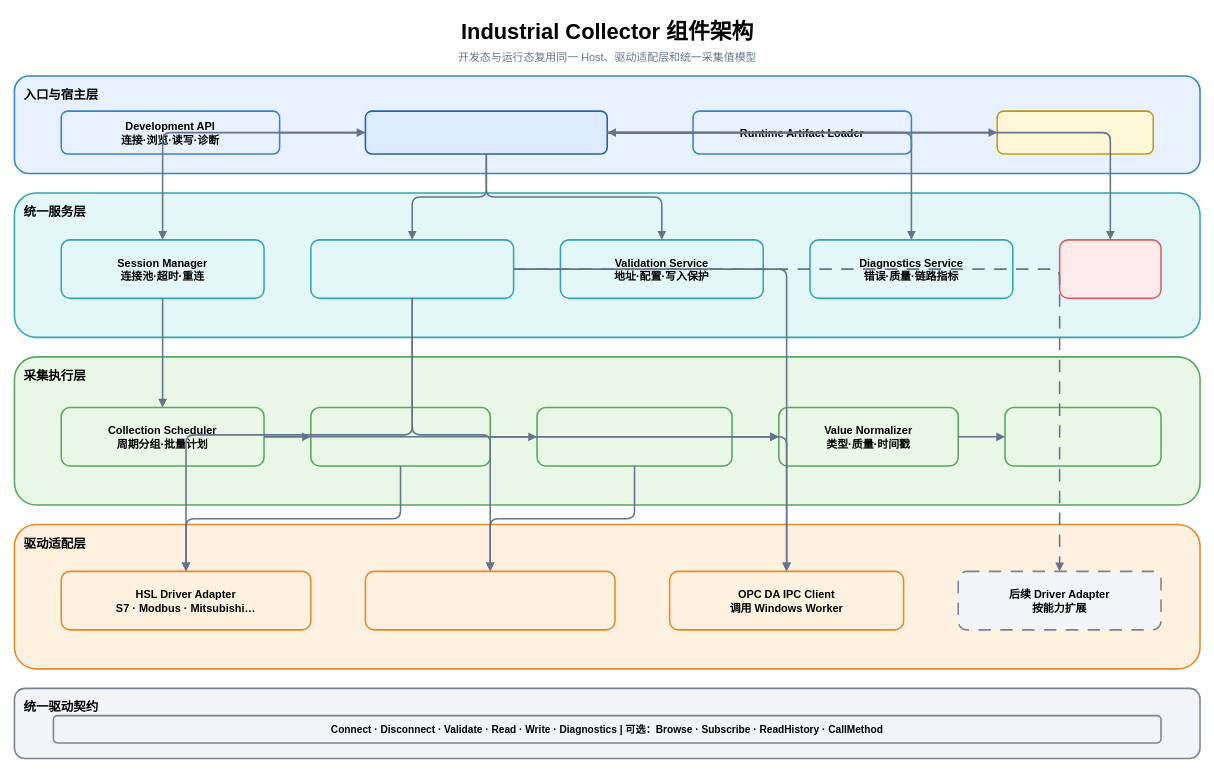
Some shapes in this 1214 by 772 pixel diagram are drawn without their labels. The shapes that lost their labels are listed below. From the top down, each one's centre as x and y in pixels, then its label:
the point at 486,132: Collector Host · .NET 8 配置·生命周期·依赖注入
the point at 1075,132: Health / Metrics
the point at 412,269: Driver Registry 能力声明·参数 Schema
the point at 1109,269: Secret Provider
the point at 400,436: Polling Engine PLC / 仪表轮询
the point at 634,436: Subscription Engine OPC UA 订阅
the point at 1082,436: Output Pipeline Runtime / MQTT
the point at 489,600: OPC UA Adapter Browse · Read · Write · Subscribe
